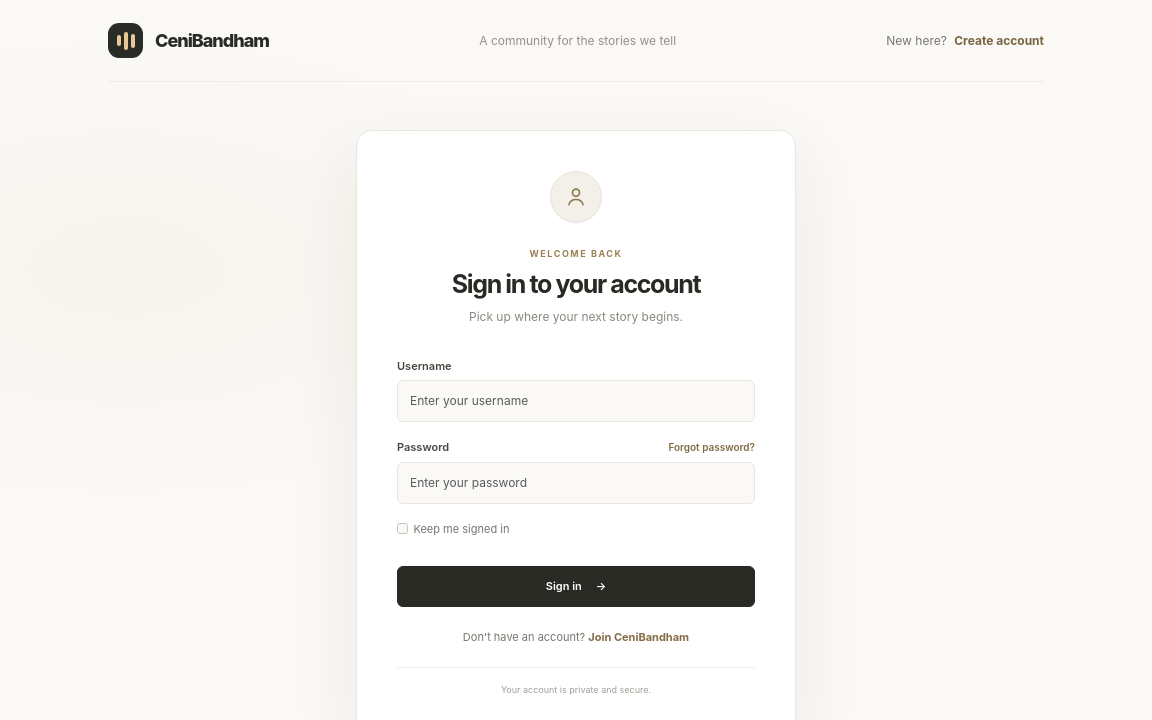
Test: Login › submits sign-in credentials through the shared API client
This screenshot has width=1152, height=720.
Type "actor_rao" into the field labelled "Username" at [576, 401], box [397, 380, 755, 422]
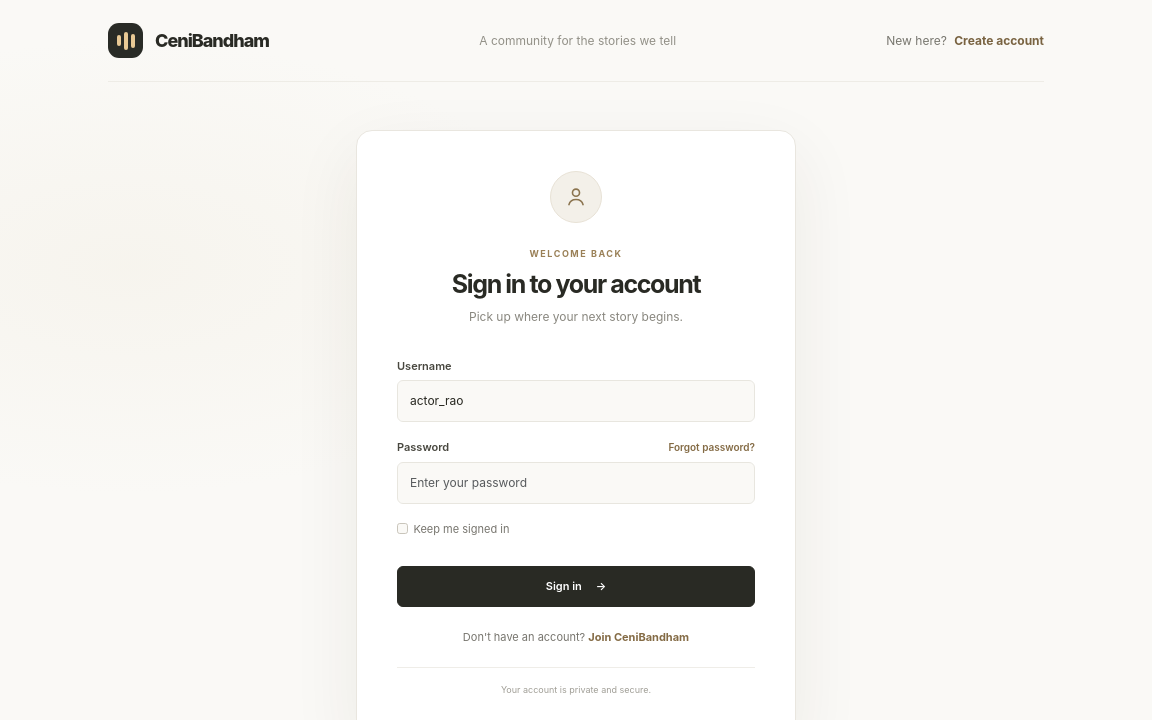
Type "securepass123" into the password field labelled "Password" at [576, 482], box [397, 462, 755, 504]
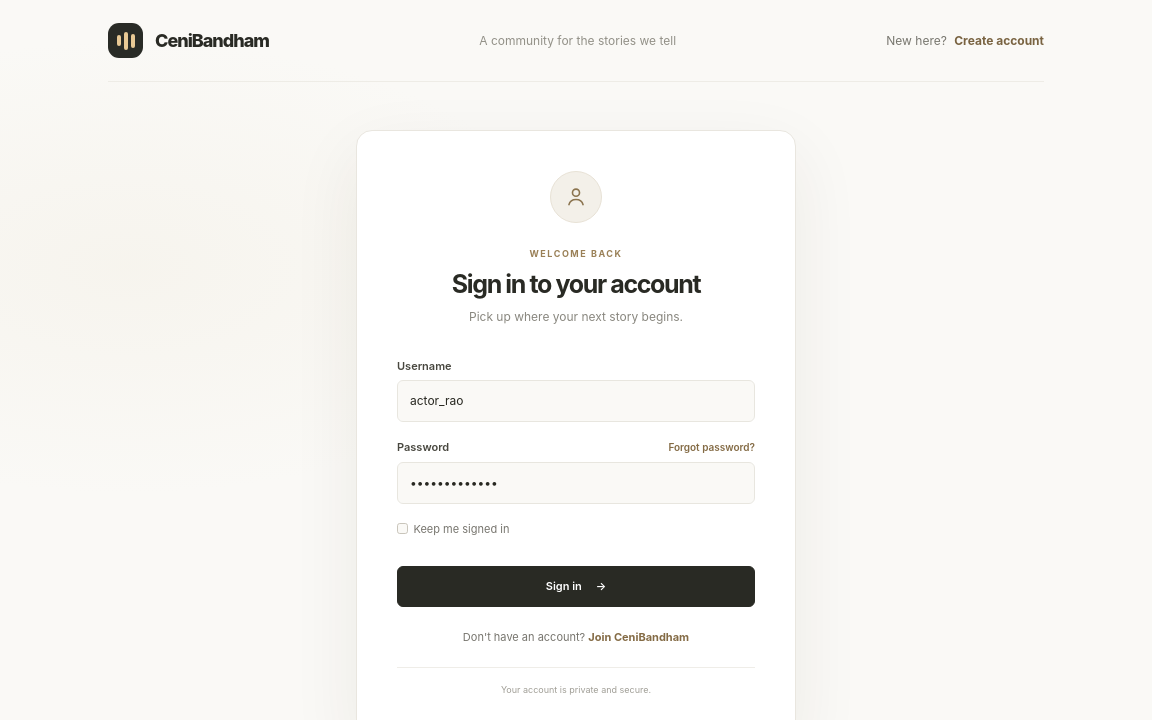
Click the checkbox labelled "Keep me signed in" at [402, 529], box [397, 523, 408, 534]
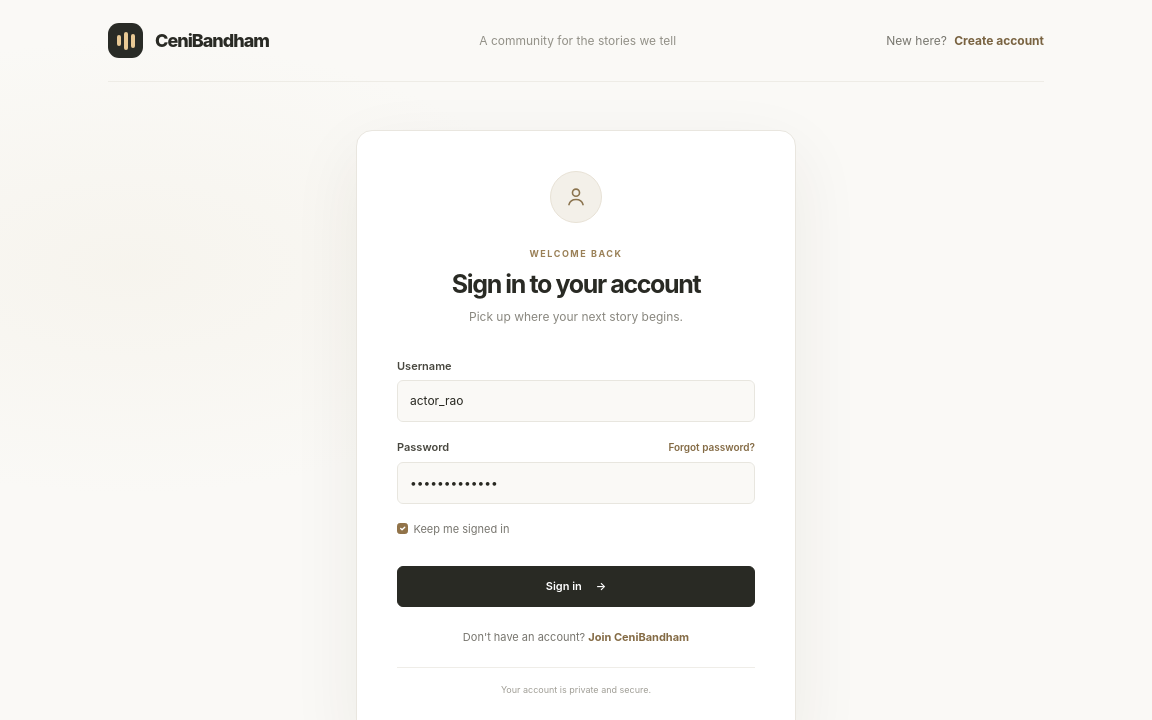
Click the button "Sign in →" at [576, 586], box [397, 566, 755, 606]
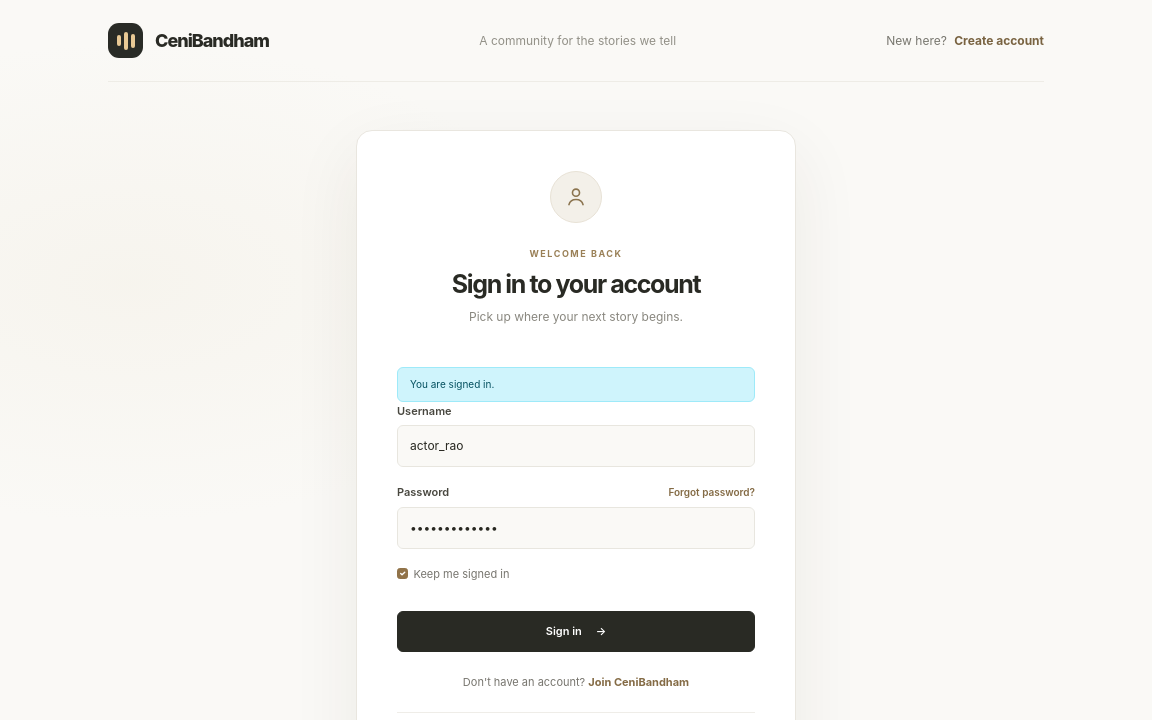
Expected: the message reads "You are signed in.", [410, 378, 494, 390]
